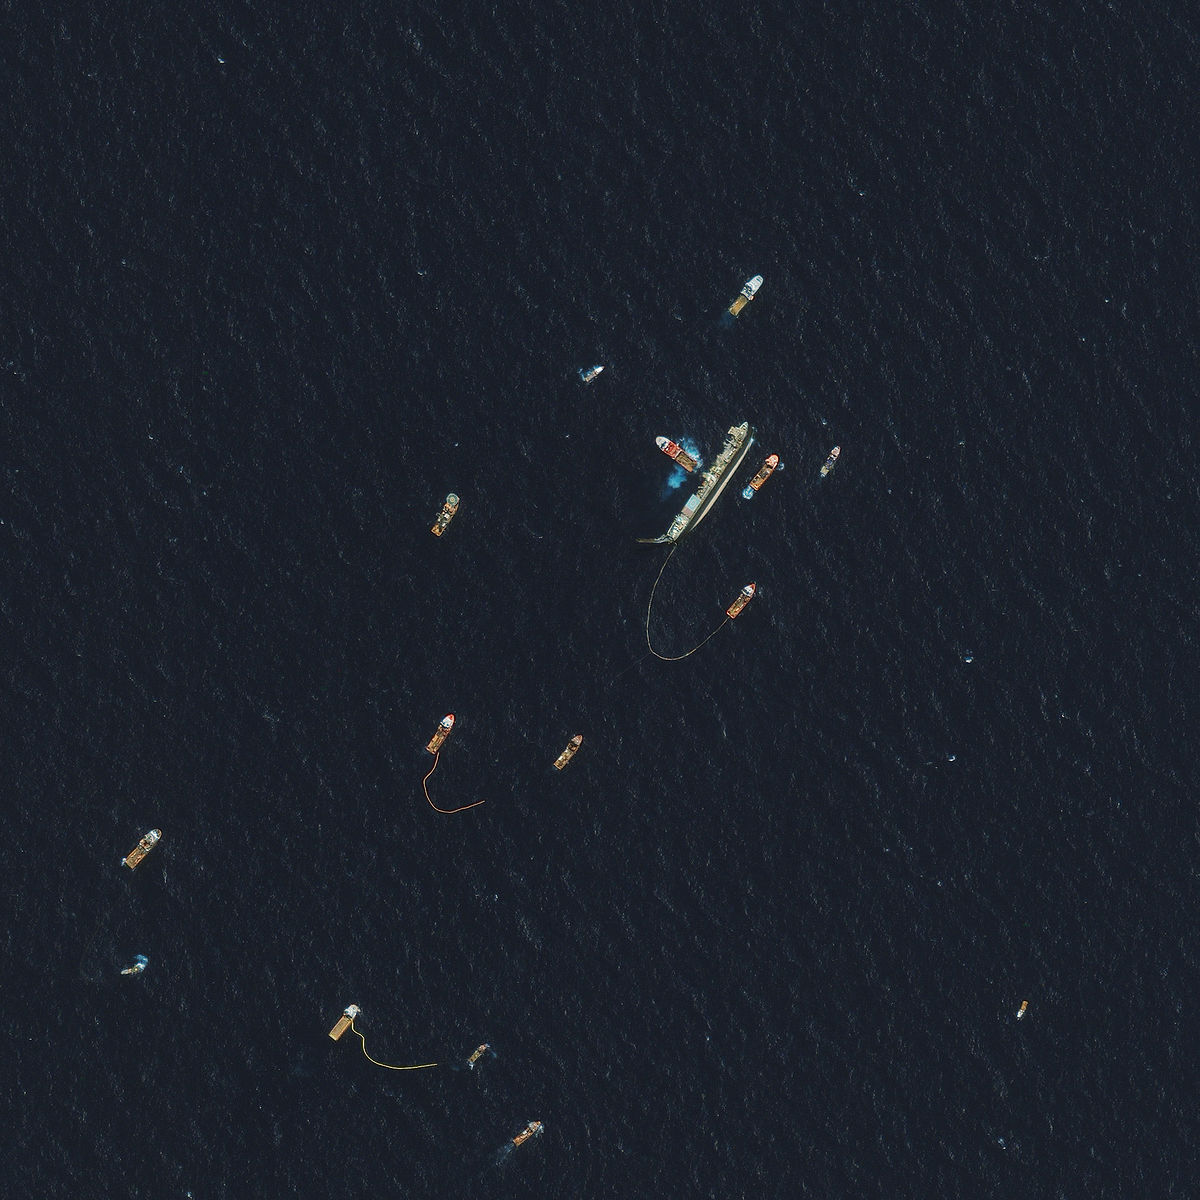ship: (664, 416, 764, 568), (420, 714, 492, 762), (560, 712, 601, 785), (438, 495, 473, 549), (735, 262, 765, 324)
